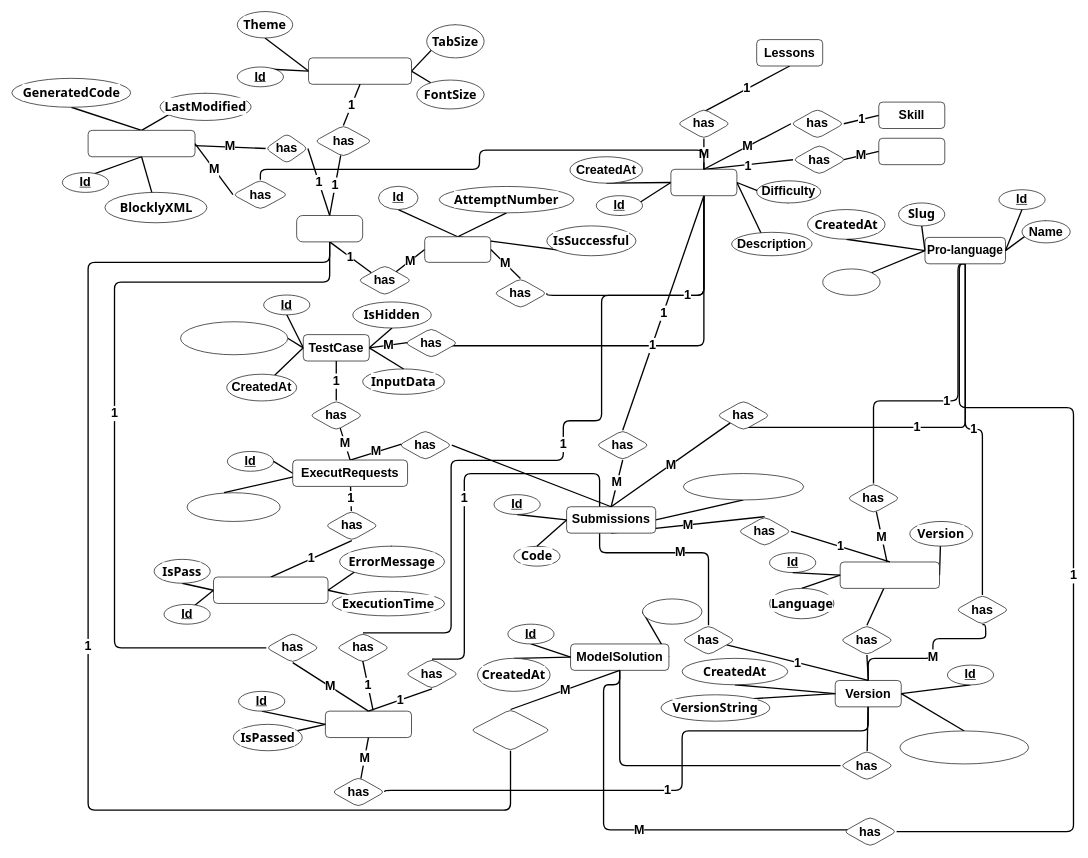
This 1088x858 diagram has some shape labels left out. The centre of each missing label's shape, as x and y in pixels:
"Attempts" goes at pixel 457 249.
"BlocklyProjects" goes at pixel 141 143.
"Create" goes at pixel 510 730.
"EditorSettings" goes at pixel 360 70.
"Environments" goes at pixel 890 574.
"ExecutionResults" goes at pixel 270 589.
"Exercises" goes at pixel 703 182.
"ExpectedOutput" goes at pixel 234 338.
"Family" goes at pixel 851 281.
"Hint" goes at pixel 911 151.
"RequestedAt" goes at pixel 233 506.
"SemverNormalized" goes at pixel 964 747.
"Solve" goes at pixel 672 611.
"SubmittedAt" goes at pixel 743 486.
"User" goes at pixel 329 228.
"UserSolution" goes at pixel 368 724.
